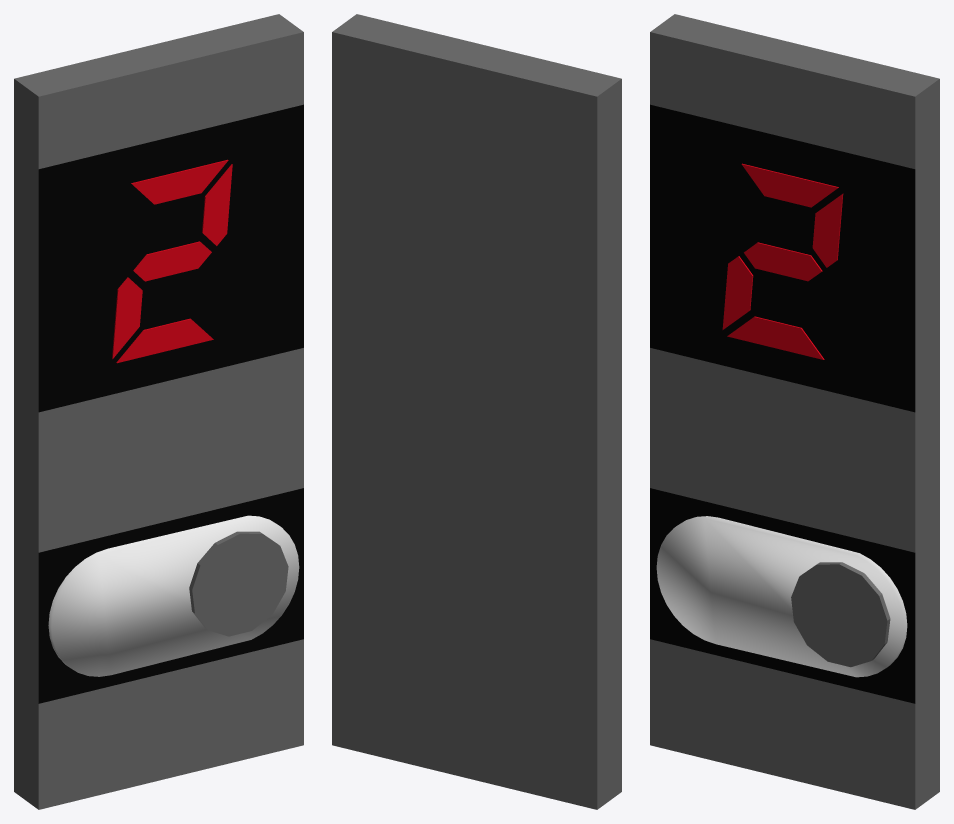
The model's file is painel elevador.fbx.
3 views of the same model, side by side, from view 1: azimuth 30°, elevation 25°; view 2: azimuth 150°, elevation 25°; view 3: azimuth 330°, elevation 25° (orthographic).
Parts seen in each view (by area): view 1: painel, moldura, 2, botao; view 2: painel; view 3: painel, moldura, 2, botao.
Boxes of the visible parts, x1,y1,x2,y2 form: painel: (14, 14, 303, 809); moldura: (48, 515, 299, 676); 2: (112, 159, 232, 363); botao: (189, 531, 288, 636); painel: (332, 14, 621, 809); painel: (650, 14, 939, 809); moldura: (656, 516, 907, 677); 2: (722, 163, 843, 359); botao: (791, 562, 890, 667).
Size of the model in its own units: 12 by 30.86 by 2.42.
